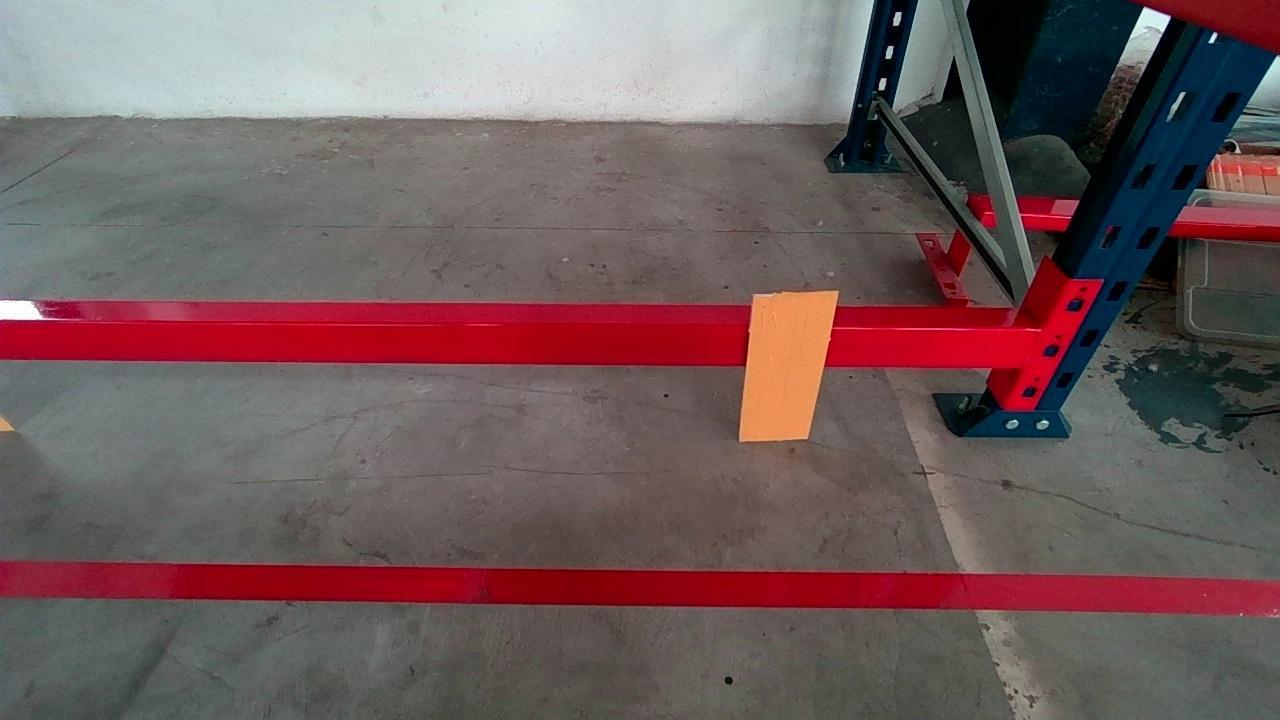h_rack: (4, 314, 1043, 371)
orange_strip: (739, 290, 836, 442)
red_line: (6, 555, 1278, 617)
